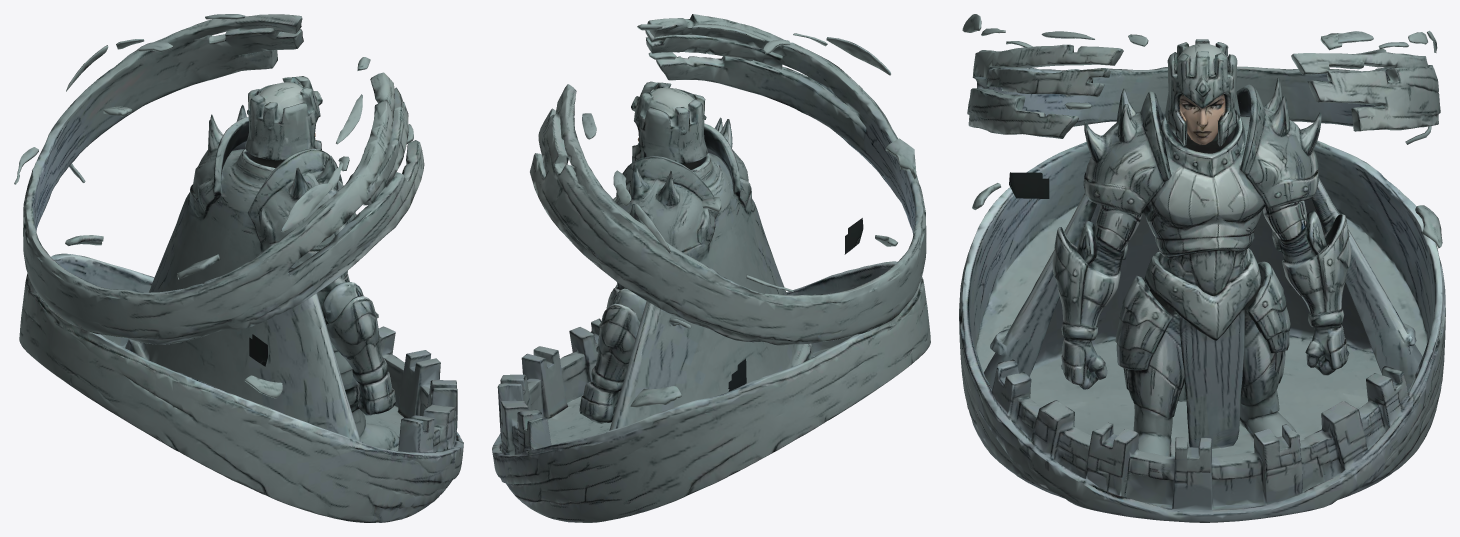
The model's file is ironwall.glb.
3 views of the same model, side by side, from view 1: azimuth 30°, elevation 25°; view 2: azimuth 150°, elevation 25°; view 3: azimuth 270°, elevation 25° (orthographic). The views are drawn at different scales.
Parts seen in each view (by area): view 1: tripo_node_23c37ae1-46f2-4fa4-ad6d-940a10322d75; view 2: tripo_node_23c37ae1-46f2-4fa4-ad6d-940a10322d75; view 3: tripo_node_23c37ae1-46f2-4fa4-ad6d-940a10322d75.
Part boxes in pixels (<box>): tripo_node_23c37ae1-46f2-4fa4-ad6d-940a10322d75: <box>14,14,463,522</box>; tripo_node_23c37ae1-46f2-4fa4-ad6d-940a10322d75: <box>492,14,930,522</box>; tripo_node_23c37ae1-46f2-4fa4-ad6d-940a10322d75: <box>959,14,1445,522</box>.
Bounding box in the file's own units: 0.973 × 0.9862 × 1.
1 material, 1 textured.
